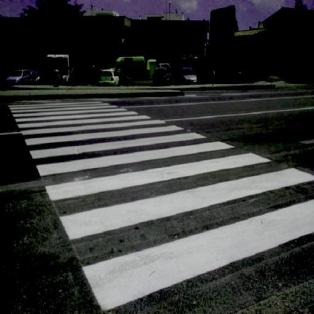Paso de Cebra: (33, 140, 274, 204), (13, 109, 156, 131)
